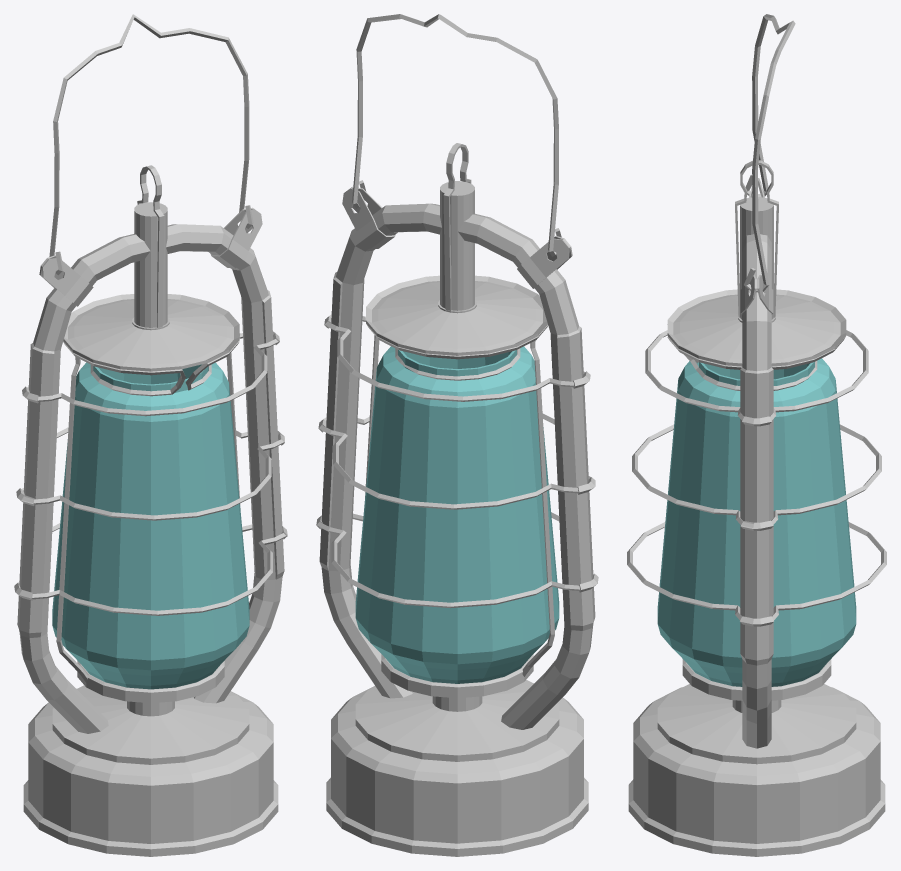
File: SM_Kerosene_Lamp.gltf
3 renders of one model, left to right at view 1: azimuth 30°, elevation 25°; view 2: azimuth 150°, elevation 25°; view 3: azimuth 270°, elevation 25°, orthographic. The views are drawn at different scales.
Parts seen in each view (by area): view 1: SM_Kerosene_Lamp; view 2: SM_Kerosene_Lamp; view 3: SM_Kerosene_Lamp.
Boxes of the visible parts, x1,y1,x2,y2 form: SM_Kerosene_Lamp: [14, 14, 287, 856]; SM_Kerosene_Lamp: [316, 14, 598, 856]; SM_Kerosene_Lamp: [627, 14, 886, 856].
Bounding box in the file's own units: 0.1593 × 0.4406 × 0.1327.
